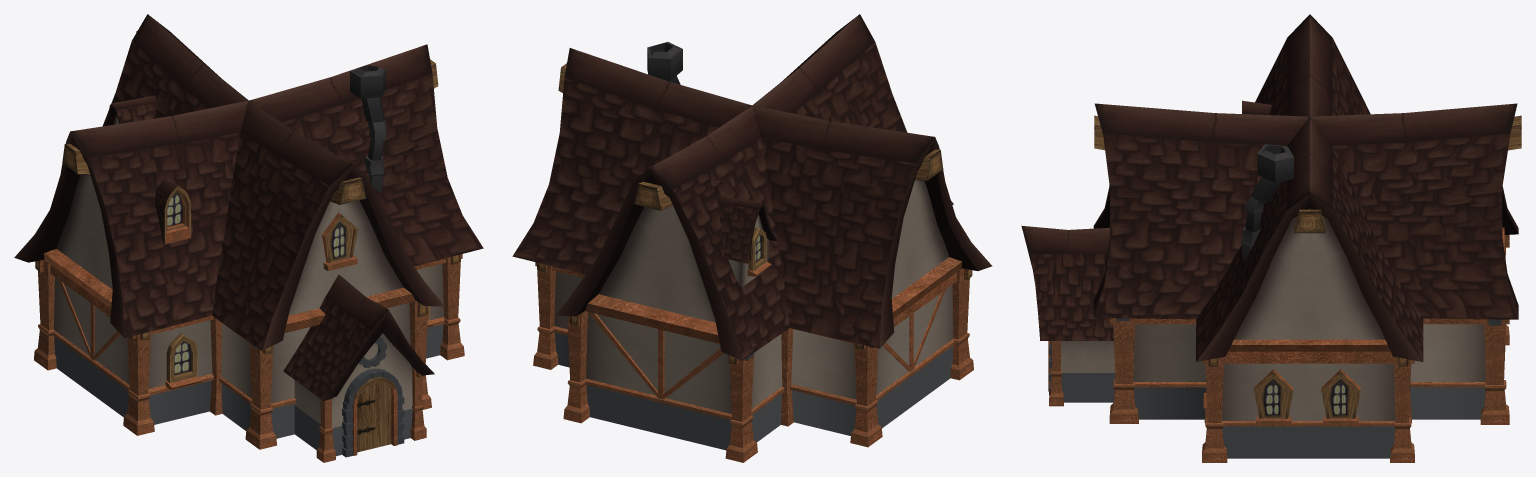
The model's file is fanasty_mod_building01.fbx.
The picture shows the model from 3 angles, left to right: view 1: azimuth 30°, elevation 25°; view 2: azimuth 150°, elevation 25°; view 3: azimuth 270°, elevation 25°; orthographic projection. The views are drawn at different scales.
Parts seen in each view (by area): view 1: village_building_01; view 2: village_building_01; view 3: village_building_01.
Boxes of the visible parts, left/top/right/bottom form: village_building_01: left=14, top=14, right=483, bottom=462; village_building_01: left=512, top=14, right=992, bottom=462; village_building_01: left=1021, top=14, right=1521, bottom=462.
Bounding box in the file's own units: 12.64 × 9.24 × 14.73.
